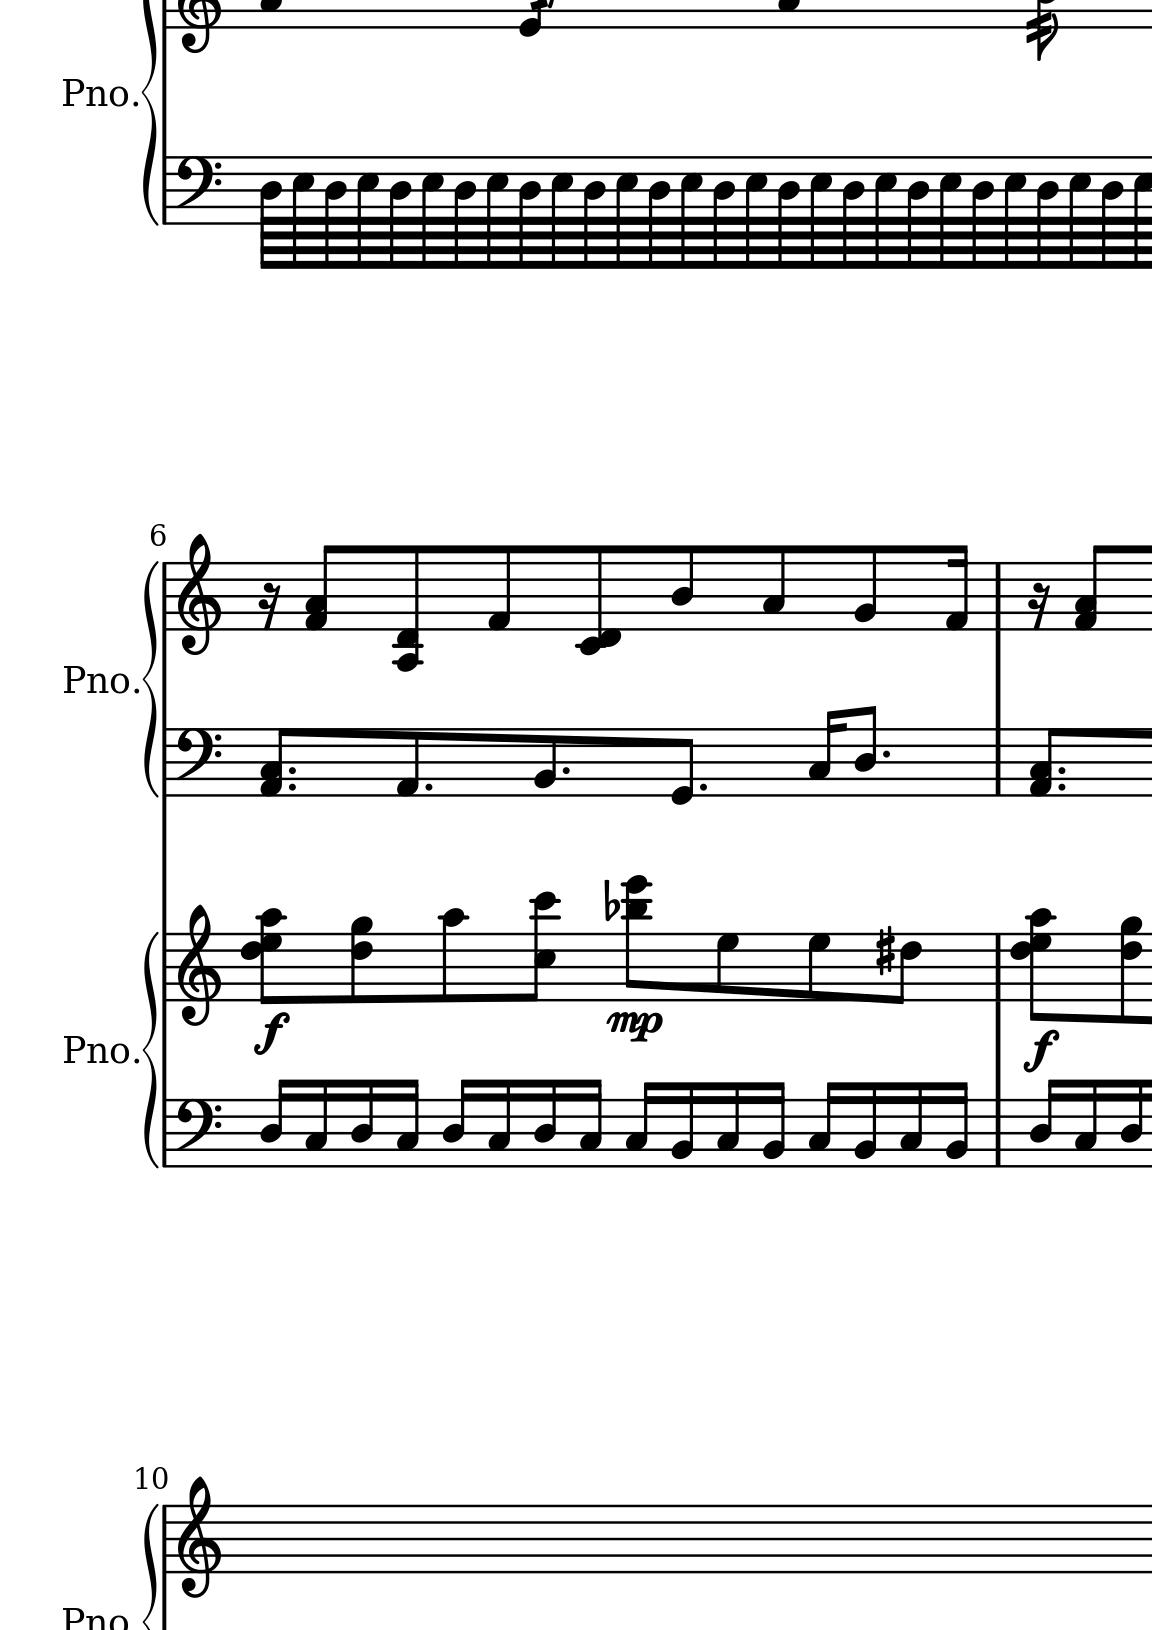0: (150, 1466, 168, 1490)
1: (132, 1466, 150, 1490)
16_1: (945, 543, 969, 633)
16_2: (761, 1080, 788, 1171), (943, 1080, 970, 1170), (670, 1079, 694, 1169), (854, 1080, 879, 1169)
16_3: (800, 710, 845, 794), (623, 1079, 656, 1171), (393, 1077, 424, 1169), (808, 1080, 839, 1169), (1073, 1077, 1102, 1168), (304, 1075, 332, 1166), (898, 1080, 925, 1171), (716, 1080, 743, 1169), (578, 1078, 605, 1169), (489, 1078, 512, 1171)
16_4: (256, 1077, 292, 1171), (440, 1078, 475, 1169), (1029, 1075, 1060, 1169), (532, 1077, 560, 1169), (1120, 1077, 1145, 1169), (350, 1077, 375, 1166)
6: (150, 522, 167, 547)
64_4: (257, 155, 286, 270), (581, 155, 608, 272), (517, 155, 545, 270), (647, 155, 673, 273), (453, 155, 478, 270), (777, 155, 800, 275), (386, 155, 411, 269), (712, 155, 737, 269), (906, 155, 931, 269), (840, 155, 864, 270), (324, 155, 347, 275), (1101, 155, 1123, 272), (972, 155, 995, 269), (1037, 155, 1058, 272)
64_5: (550, 156, 577, 272), (290, 155, 317, 270), (355, 153, 380, 270), (679, 155, 704, 272), (808, 155, 833, 272), (485, 155, 510, 270), (613, 155, 638, 270), (1067, 155, 1091, 272), (939, 155, 962, 270), (1004, 156, 1027, 272), (746, 155, 768, 270), (875, 155, 898, 270), (421, 155, 444, 268), (1132, 155, 1152, 270)
8_-2_-1: (575, 545, 623, 655)
8_-4_-1: (391, 545, 426, 673)
8_0: (670, 725, 699, 808)
8_1: (485, 542, 512, 634), (394, 727, 424, 799)
8_10: (439, 902, 470, 1006)
8_11_14: (621, 874, 651, 1003)
8_1_3: (303, 545, 339, 632), (1073, 543, 1110, 631), (1027, 727, 1063, 798), (256, 729, 292, 800)
8_2: (853, 542, 881, 631), (534, 724, 559, 800)
8_3: (761, 541, 789, 632)
8_4: (670, 543, 697, 634), (854, 707, 880, 798)
8_5_12: (526, 891, 559, 1002)
8_6: (891, 933, 924, 1008)
8_6_9: (1118, 913, 1145, 1026), (350, 915, 373, 1006)
8_7: (804, 931, 832, 1004), (716, 933, 743, 1004)
8_th: (1010, 907, 1055, 1023), (239, 906, 286, 1004)
Brace: (137, 1, 160, 228), (138, 560, 160, 798), (138, 931, 160, 1169)
Fclef: (171, 717, 228, 798), (173, 1087, 226, 1171), (171, 153, 219, 228)
Flat: (601, 877, 622, 923)
Gclef: (175, 903, 229, 1029), (175, 532, 224, 658), (175, 1473, 224, 1596)
Pno: (59, 1031, 133, 1070), (61, 660, 131, 702), (60, 74, 128, 113)
Rests16: (256, 579, 283, 634), (1029, 579, 1052, 634)
Sharp: (874, 926, 898, 977)
Single_barline: (989, 1098, 1012, 1168), (987, 561, 1010, 632), (987, 728, 1009, 796), (989, 932, 1009, 999), (158, 561, 176, 631), (158, 932, 176, 1001), (157, 727, 173, 798), (157, 155, 173, 226), (158, 1099, 173, 1168)
dot: (1056, 776, 1072, 799), (696, 776, 712, 798), (879, 743, 894, 765), (1055, 760, 1070, 783), (560, 764, 574, 776), (286, 765, 299, 776), (286, 783, 298, 794), (423, 781, 434, 793)
f: (1021, 1021, 1060, 1074), (249, 1009, 293, 1054)
mp: (601, 1009, 665, 1044)
